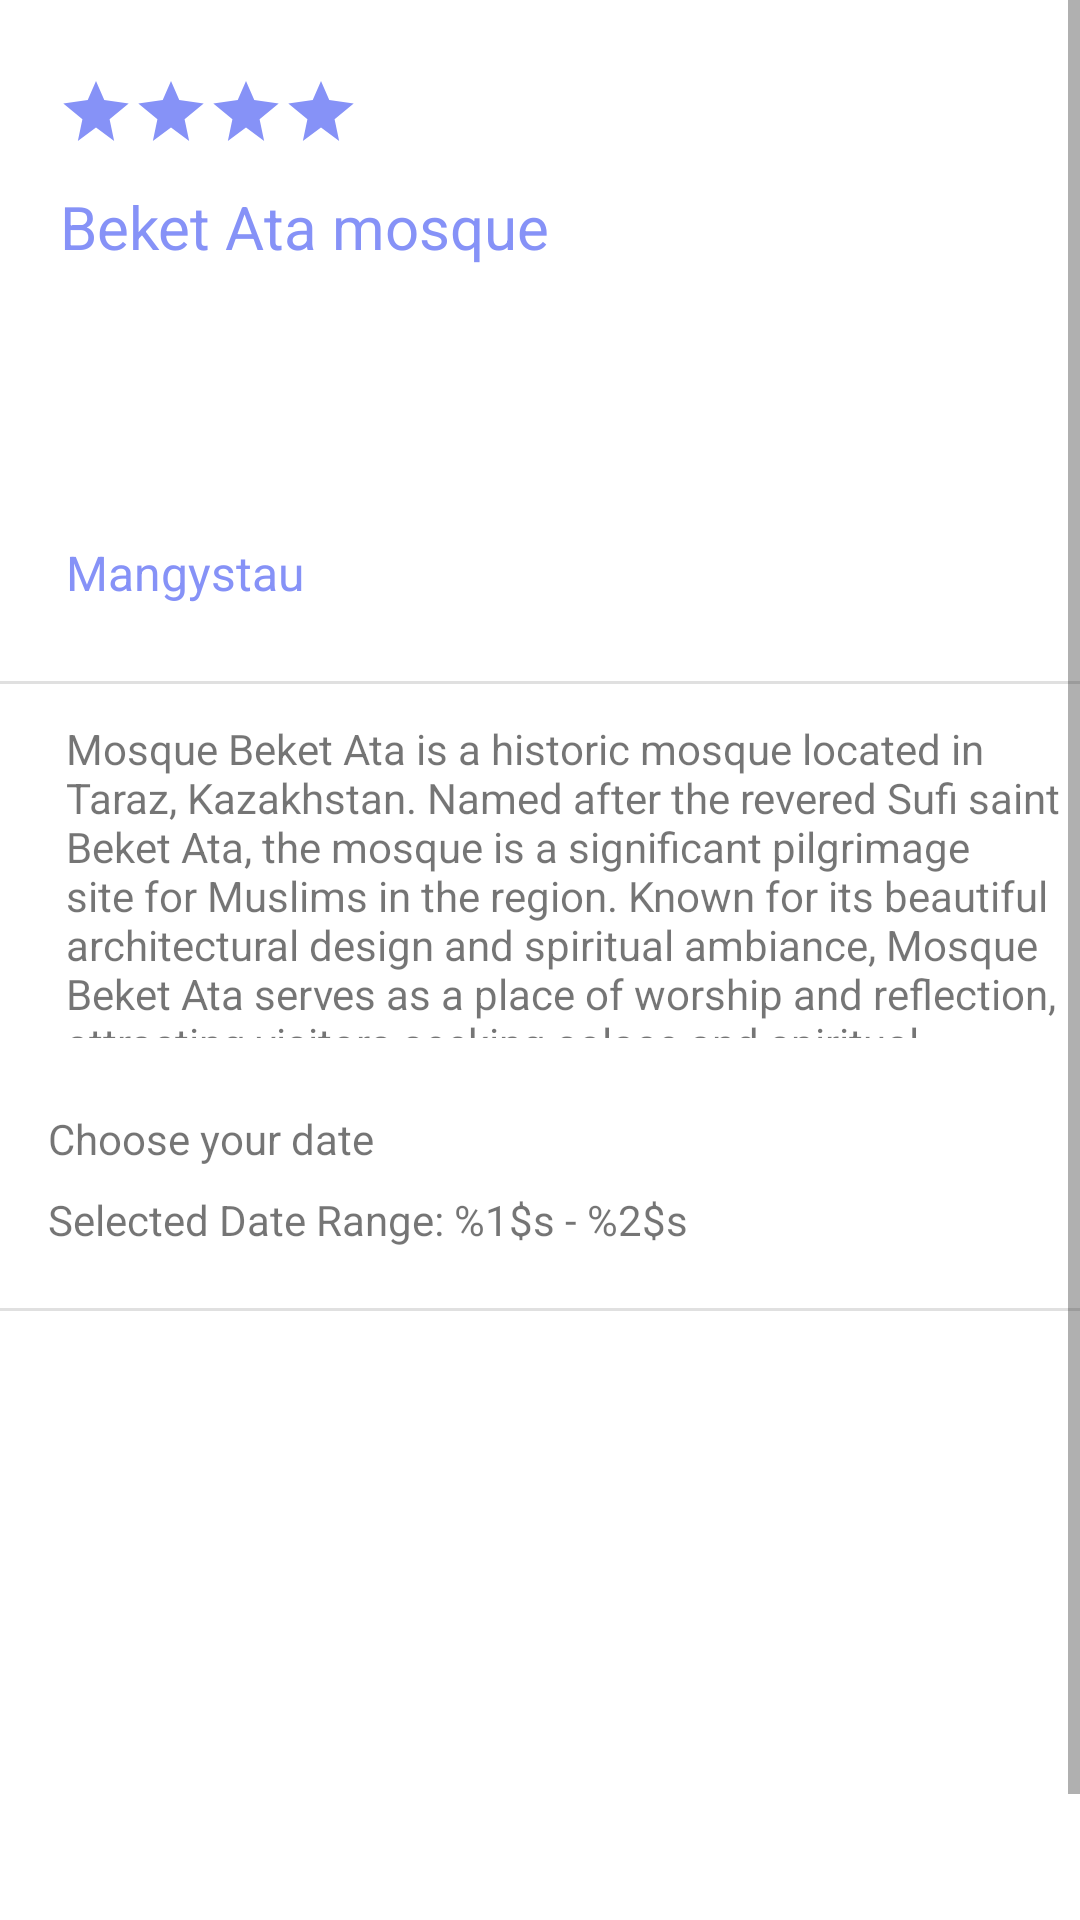

Where to tap for icons on this 1080x1920 app screen, as [x,y]:
star: [96,111], [171,111], [246,111], [321,111]
